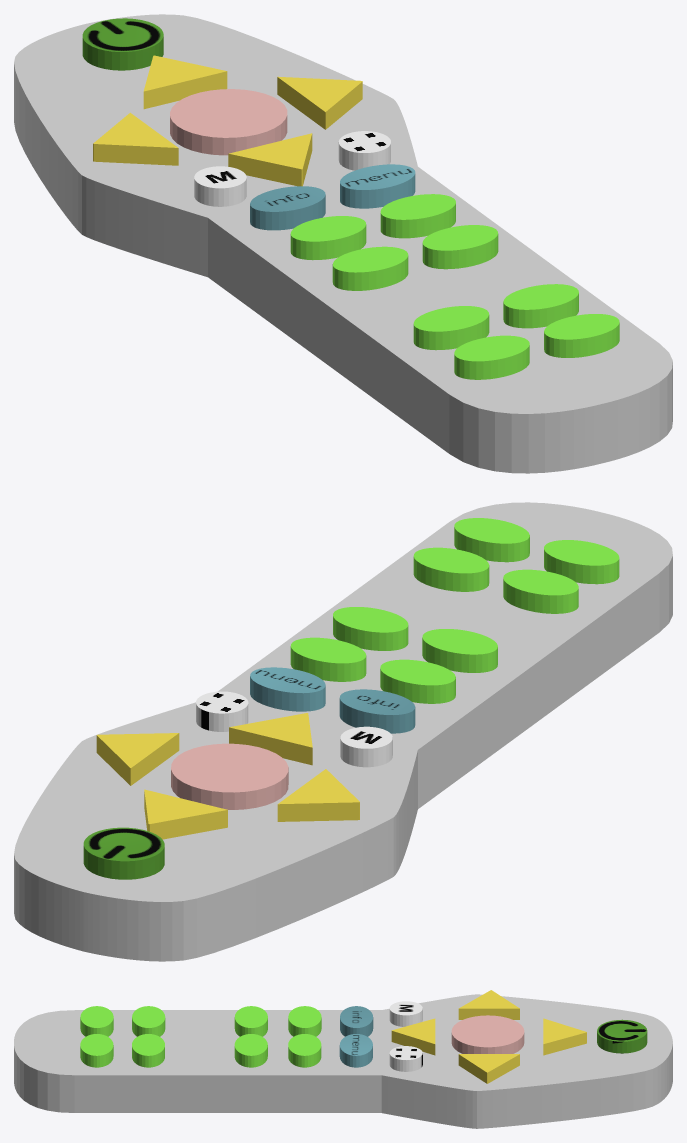
The model's file is remote3.glb.
The picture shows the model from 3 angles, top to bottom: view 1: azimuth 30°, elevation 25°; view 2: azimuth 150°, elevation 25°; view 3: azimuth 270°, elevation 25°; orthographic projection. The views are drawn at different scales.
Parts seen in each view (by area): view 1: Curve, Middle_Button, Power_Button, Prev_Proj, Next_Proj, Next_Channel, Prev_Channel, Button_3, Button 4, Button_9, Button_10, Button_1 (+7 smaller); view 2: Curve, Middle_Button, Power_Button, Next_Proj, Prev_Proj, Button_8, Prev_Channel, Menu_Button, Button_7, Button 4, Button_3, Button_2 (+7 smaller); view 3: Curve, Middle_Button, Power_Button, Next_Proj, Prev_Proj, Prev_Channel, Next_Channel, Button_2, Button 4, Button_10, Menu_Button, Button_8 (+7 smaller).
Boxes of the visible parts, x1,y1,x2,y2 form: Curve: [14, 14, 672, 473]; Middle_Button: [170, 89, 287, 155]; Power_Button: [82, 18, 163, 70]; Prev_Proj: [93, 112, 178, 165]; Next_Proj: [277, 76, 362, 129]; Next_Channel: [228, 133, 312, 186]; Prev_Channel: [143, 55, 227, 109]; Button_3: [332, 246, 408, 290]; Button 4: [422, 225, 498, 269]; Button_9: [454, 335, 529, 379]; Button_10: [544, 314, 619, 357]; Button_1: [290, 216, 366, 260]; Curve: [14, 502, 672, 961]; Middle_Button: [171, 743, 288, 809]; Power_Button: [83, 827, 164, 879]; Next_Proj: [96, 733, 179, 785]; Prev_Proj: [277, 769, 359, 821]; Button_8: [413, 547, 489, 591]; Prev_Channel: [144, 789, 227, 839]; Menu_Button: [250, 667, 325, 711]; Button_7: [503, 569, 578, 613]; Button 4: [333, 607, 408, 650]; Button_3: [422, 629, 497, 672]; Button_2: [290, 637, 366, 681]; Curve: [14, 994, 672, 1128]; Middle_Button: [451, 1015, 524, 1053]; Power_Button: [597, 1019, 647, 1053]; Next_Proj: [458, 1054, 519, 1083]; Prev_Proj: [458, 990, 519, 1019]; Prev_Channel: [543, 1018, 586, 1055]; Next_Channel: [391, 1018, 435, 1055]; Button_2: [288, 1034, 321, 1067]; Button 4: [234, 1034, 267, 1067]; Button_10: [80, 1034, 113, 1067]; Menu_Button: [339, 1034, 372, 1067]; Button_8: [132, 1034, 164, 1067].
Bounding box in the file's own units: 2.51 × 0.6006 × 7.24.
19 materials, 5 textured.
